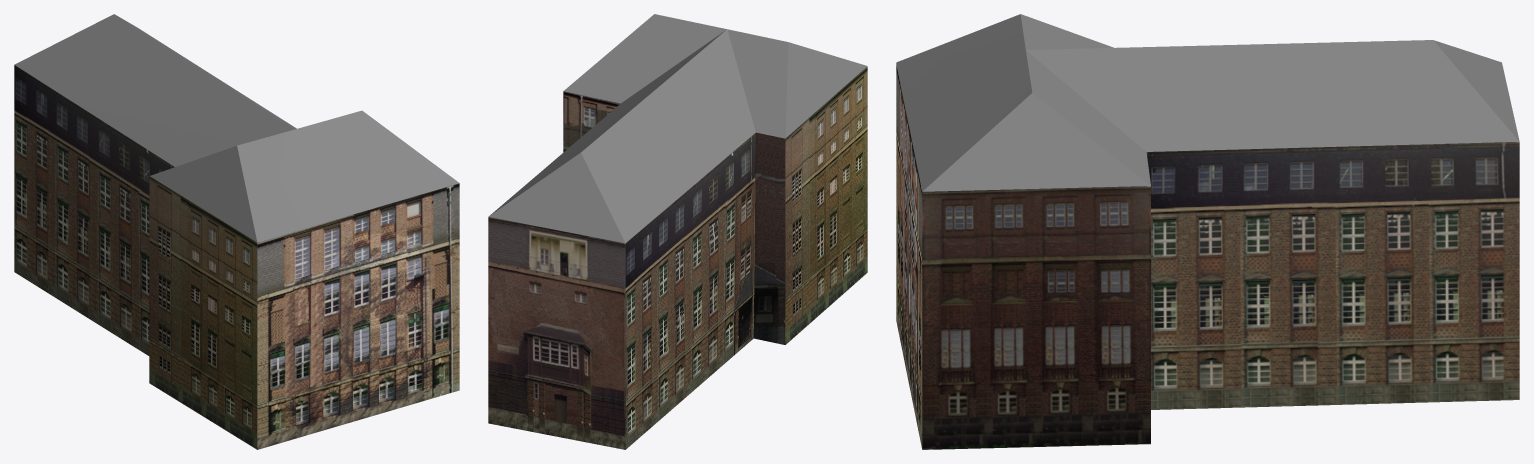
The model's file is Koenig-Bau.gltf.
3 renders of one model, left to right at view 1: azimuth 30°, elevation 25°; view 2: azimuth 150°, elevation 25°; view 3: azimuth 270°, elevation 25°, orthographic. The views are drawn at different scales.
Parts seen in each view (by area): view 1: Dach.1; view 2: Dach.1; view 3: Dach.1.
Boxes of the visible parts, x1=… form: Dach.1: x1=14, y1=14, x2=459, y2=449; Dach.1: x1=488, y1=14, x2=867, y2=449; Dach.1: x1=896, y1=14, x2=1519, y2=449.
Bounding box in the file's own units: 22.34 × 24.68 × 42.94.
Materials: 9 (8 with a texture image).
